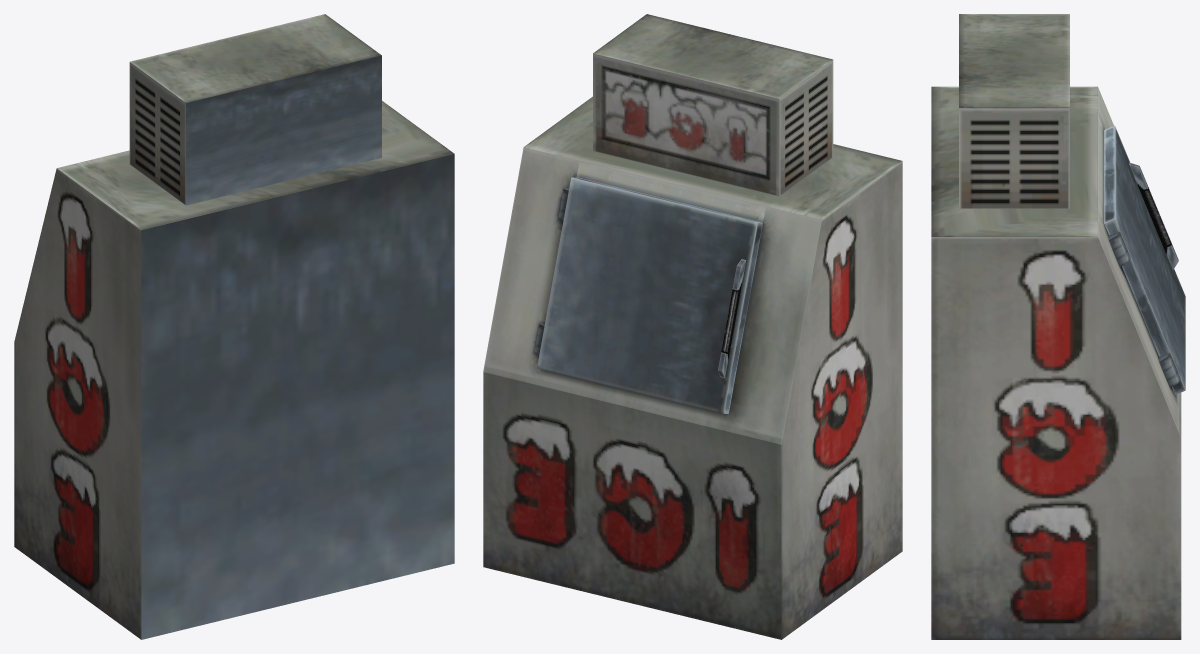
File: ice_machine.fbx
The picture shows the model from 3 angles, left to right: view 1: azimuth 30°, elevation 25°; view 2: azimuth 150°, elevation 25°; view 3: azimuth 270°, elevation 25°; orthographic projection. The views are drawn at different scales.
Visible parts, largest first — view 1: mesh_0; view 2: mesh_0; view 3: mesh_0.
Boxes of the visible parts, x1,y1,x2,y2 form: mesh_0: (14, 14, 454, 639); mesh_0: (483, 14, 902, 639); mesh_0: (931, 14, 1185, 639).
Size of the model in its own units: 128 by 200 by 91.62.
Materials: 1 (1 with a texture image).
